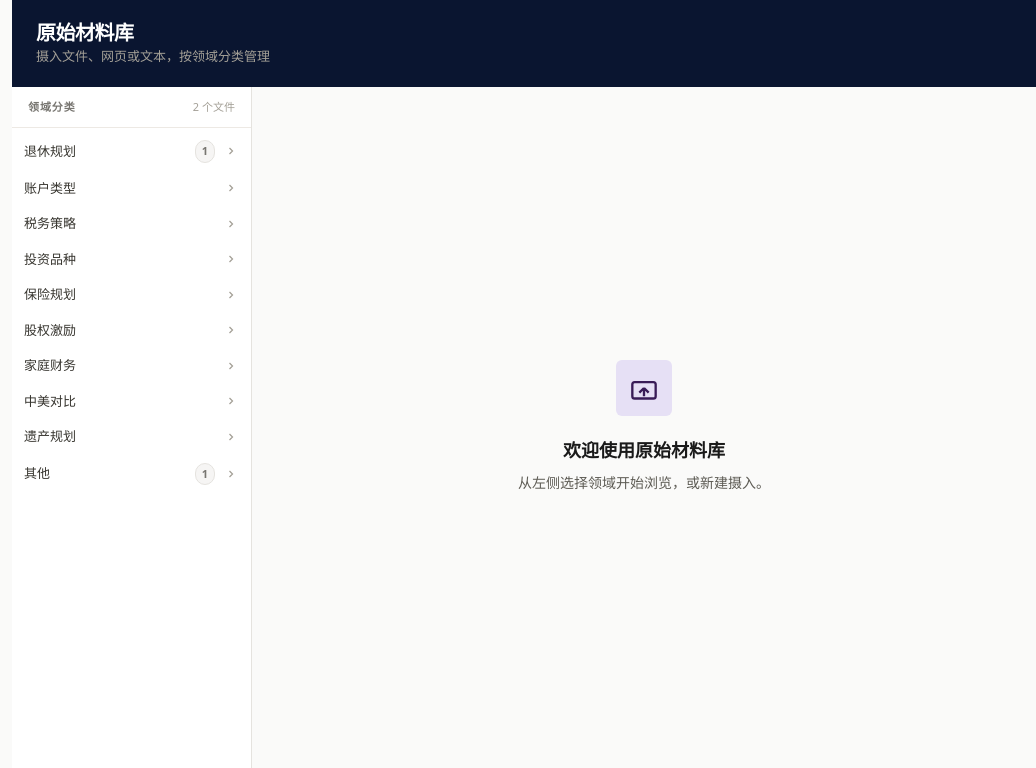
Test: 4.2 domain name click and chevron toggle › clicking chevron toggles file list visibility without changing rightPanelState
// Files are hidden by default (collapsed)
Click the button without text in the row of "退休规划".
click(231, 151)  # box [223, 143, 239, 159]
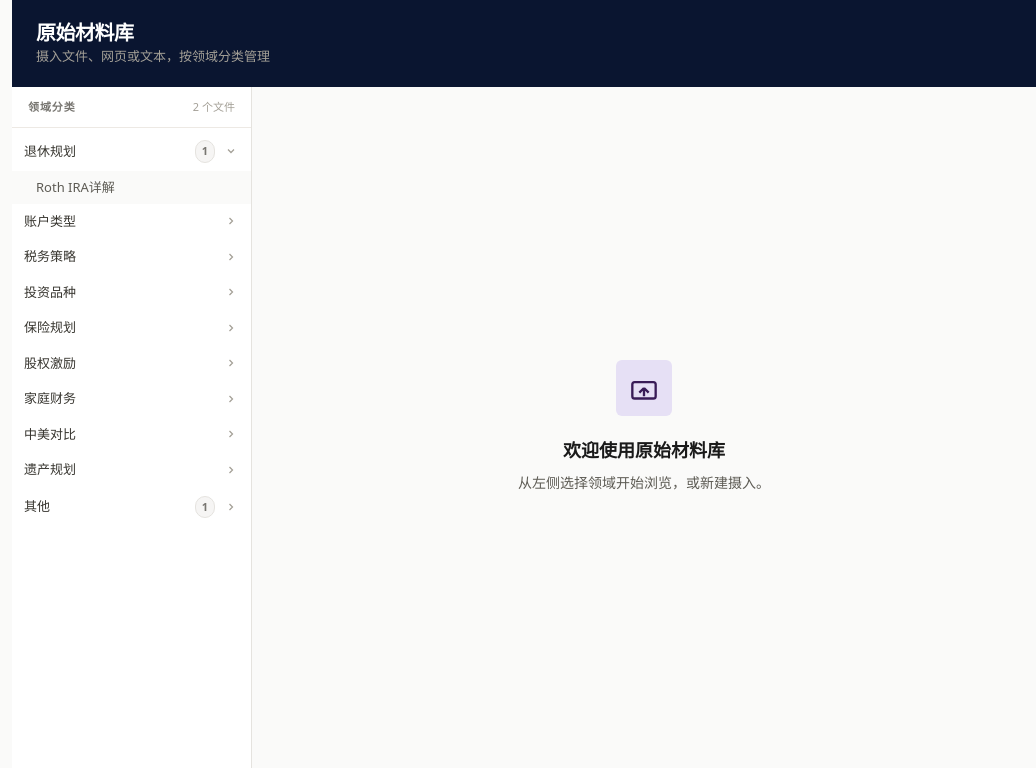
Expected: the element showing "欢迎使用原始材料库 从左侧选择领域开始浏览，或新建摄入。" is shown, [518, 360, 770, 492]
Now the button "Roth IRA详解" is shown, box [12, 170, 251, 204]
